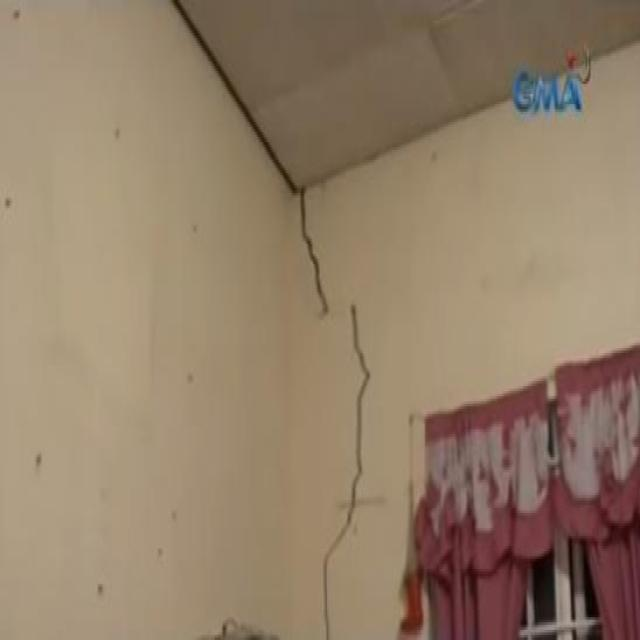damage: (282, 165, 380, 640)
